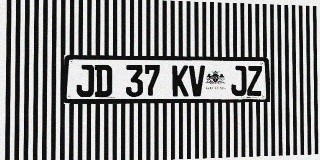3: (126, 65, 143, 97)
7: (143, 65, 160, 97)
D: (94, 64, 112, 97)
J: (76, 64, 94, 97), (231, 65, 246, 96)
K: (172, 65, 188, 96)
V: (189, 65, 205, 96)
Z: (247, 66, 262, 96)
